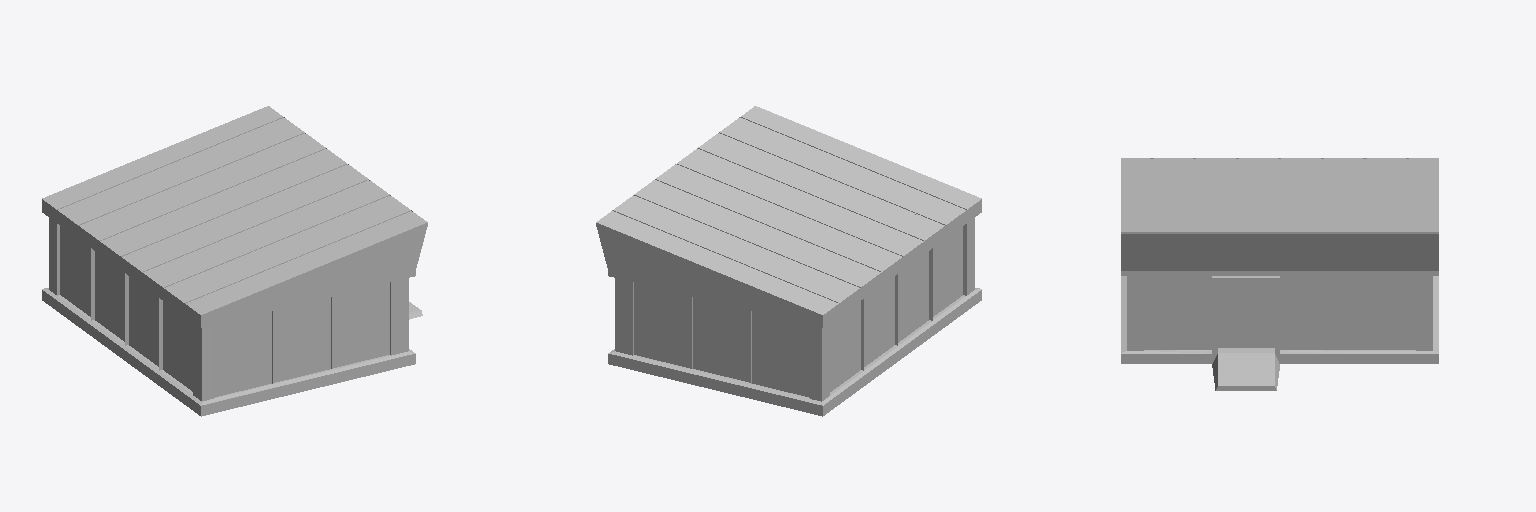
The model's file is store.obj.
The picture shows the model from 3 angles: view 1: azimuth 30°, elevation 25°; view 2: azimuth 150°, elevation 25°; view 3: azimuth 270°, elevation 25°; orthographic projection.
Parts seen in each view (by area): view 1: ROAD.404; view 2: ROAD.404; view 3: ROAD.404.
Boxes of the visible parts, x1,y1,x2,y2 form: ROAD.404: [42, 106, 427, 416]; ROAD.404: [596, 106, 981, 416]; ROAD.404: [1121, 158, 1438, 390].
Bounding box in the file's own units: 56.93 × 28.04 × 58.34.